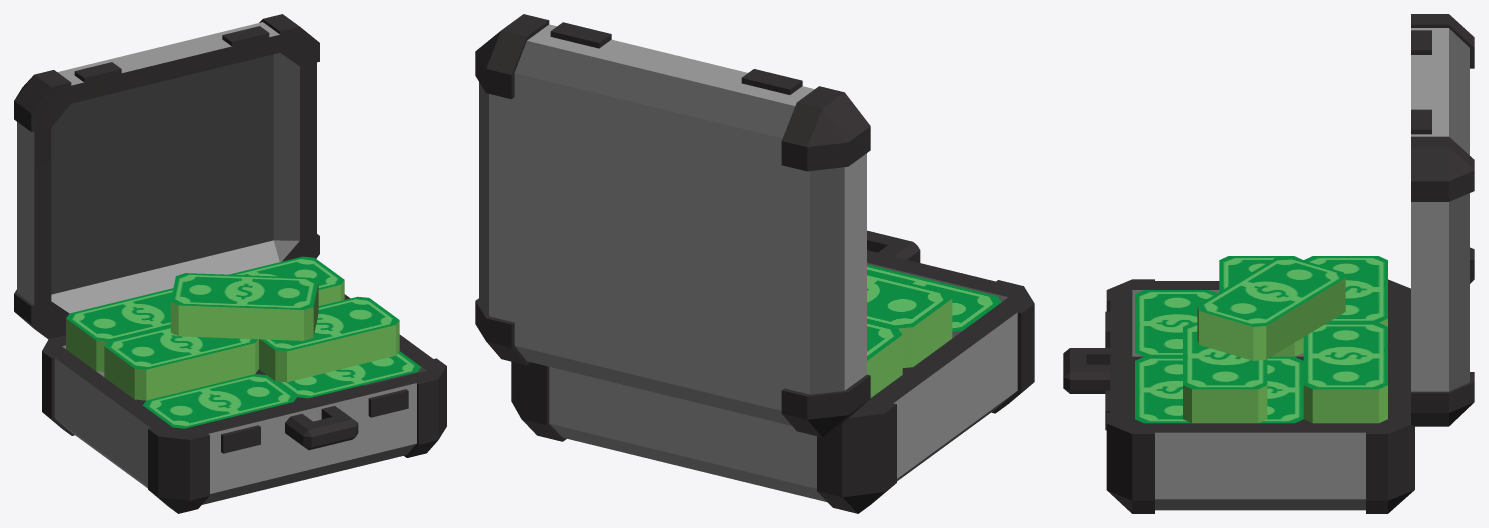
Rendered from cash pile.fbx.
The picture shows the model from 3 angles, left to right: view 1: azimuth 30°, elevation 25°; view 2: azimuth 150°, elevation 25°; view 3: azimuth 270°, elevation 25°; orthographic projection. The views are drawn at different scales.
Parts seen in each view (by area): view 1: cash pile; view 2: cash pile; view 3: cash pile.
Boxes of the visible parts, x1,y1,x2,y2 form: cash pile: (14, 14, 446, 513); cash pile: (475, 14, 1034, 513); cash pile: (1063, 14, 1474, 513).
Size of the model in its own units: 4.65 by 5.16 by 5.22.
